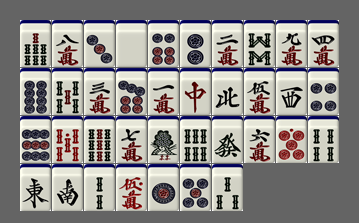0m: (116, 164, 147, 211)
0p: (276, 116, 307, 163)
0s: (52, 116, 83, 163)
1m: (148, 68, 179, 115)
1p: (148, 164, 179, 211)
1s: (148, 116, 179, 163)
1z: (20, 164, 51, 211)
2m: (212, 20, 243, 67)
2p: (180, 20, 211, 67)
2s: (84, 164, 115, 211)
2z: (52, 164, 83, 211)
3m: (84, 68, 115, 115)
3p: (84, 20, 115, 67)
3s: (212, 164, 243, 211)
3z: (276, 68, 307, 115)
4m: (308, 20, 339, 67)
4p: (308, 68, 339, 115)
4s: (308, 116, 339, 163)
4z: (212, 68, 243, 115)
5m: (244, 68, 275, 115)
5p: (180, 164, 211, 211)
5s: (52, 68, 83, 115)
5z: (116, 20, 147, 67)
6m: (244, 116, 275, 163)
6p: (148, 20, 179, 67)
6s: (180, 116, 211, 163)
6z: (212, 116, 243, 163)
7m: (116, 116, 147, 163)
7p: (116, 68, 147, 115)
7s: (20, 20, 51, 67)
7z: (180, 68, 211, 115)
8m: (52, 20, 83, 67)
8p: (20, 68, 51, 115)
8s: (244, 20, 275, 67)
9m: (276, 20, 307, 67)
9p: (20, 116, 51, 163)
9s: (84, 116, 115, 163)
